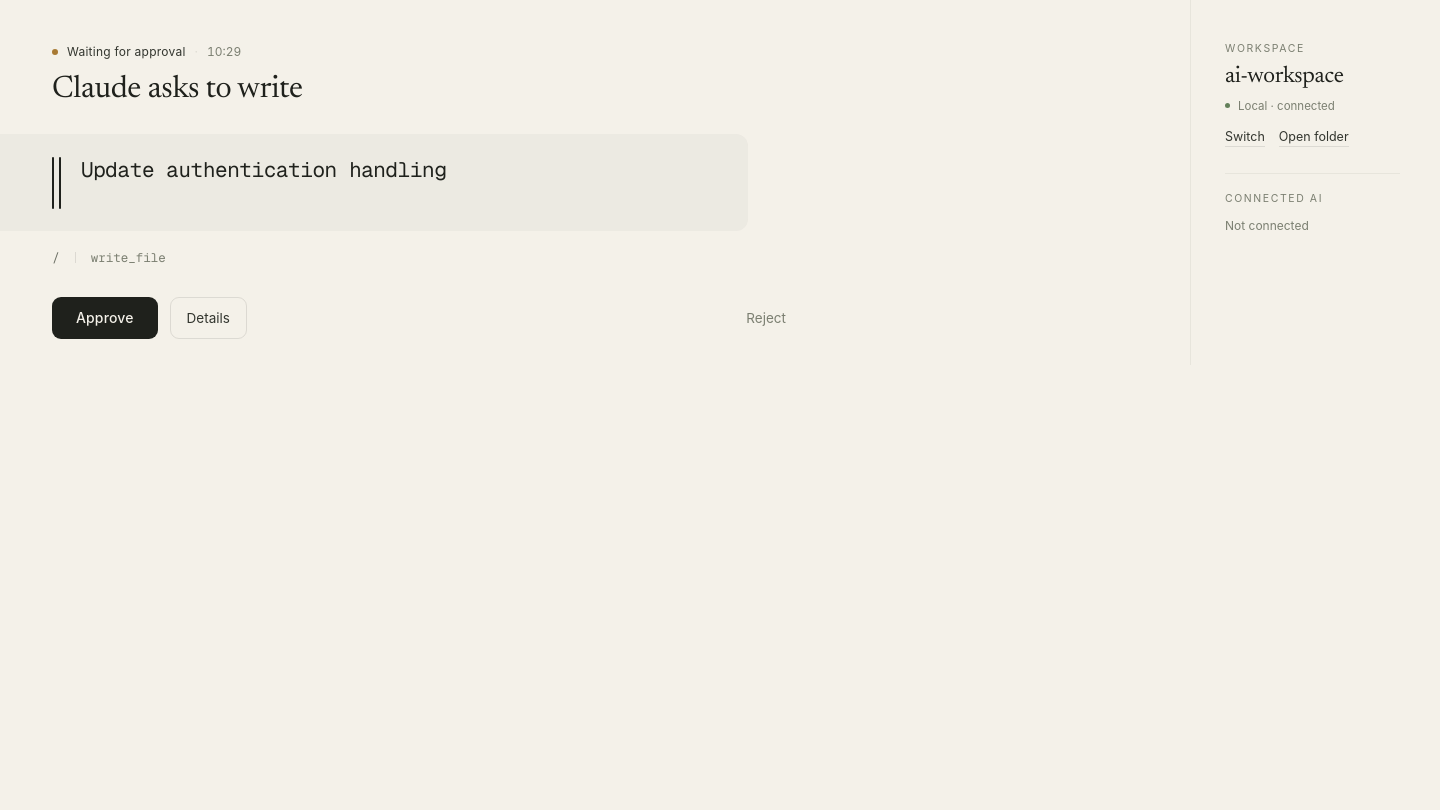
Test: what a change row has to say beyond its path › leaves an ordinary write unmarked
Click the button "Details": coordinates (208, 318) [170, 297, 247, 339]
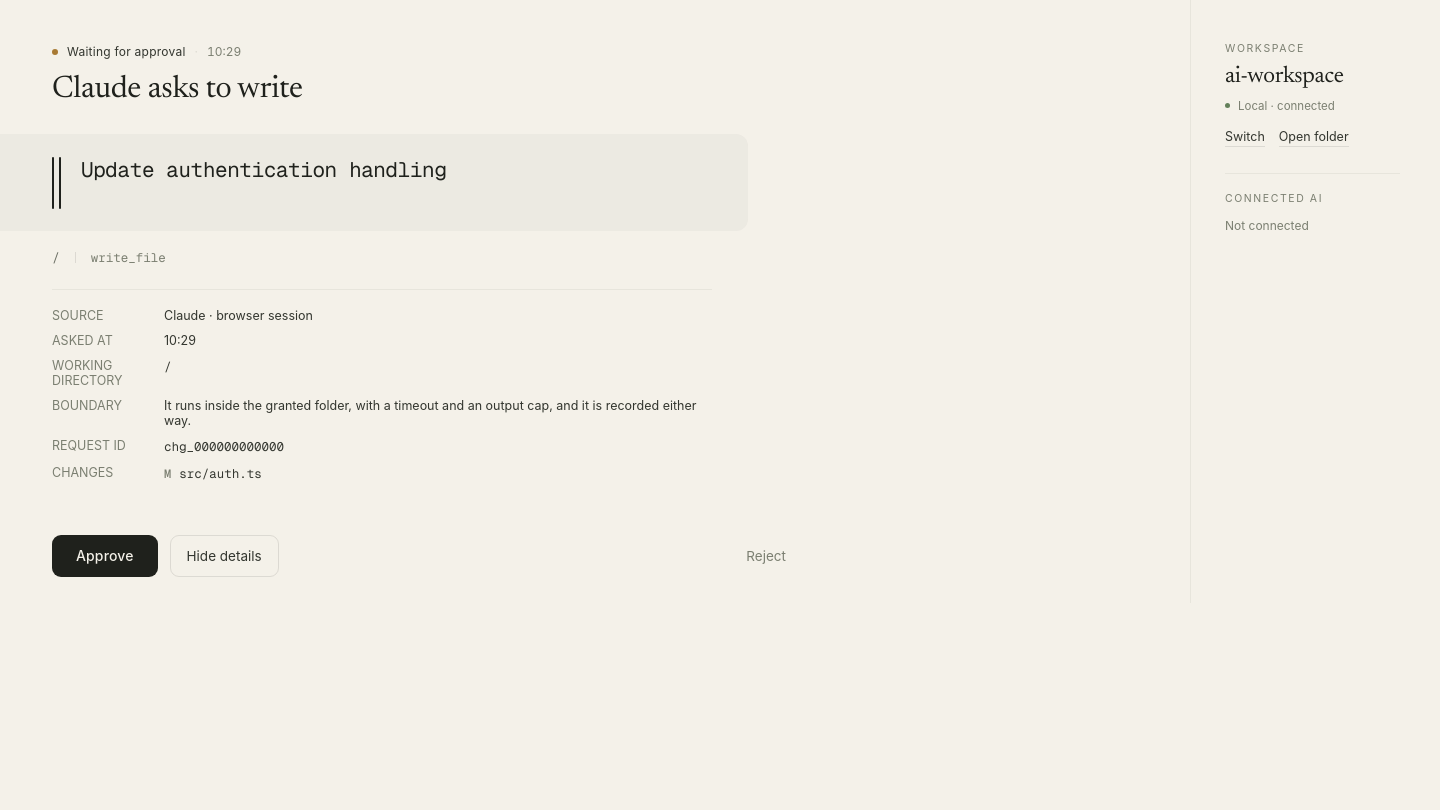
Expected: the text "src/auth.ts" is shown, [179, 465, 262, 482]
